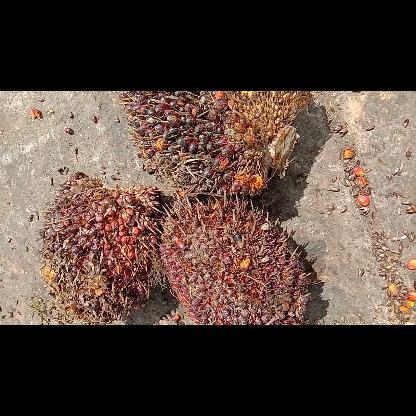Kurang masak: (36, 171, 162, 322)
TBS masak: (115, 91, 313, 199), (154, 194, 314, 324)
